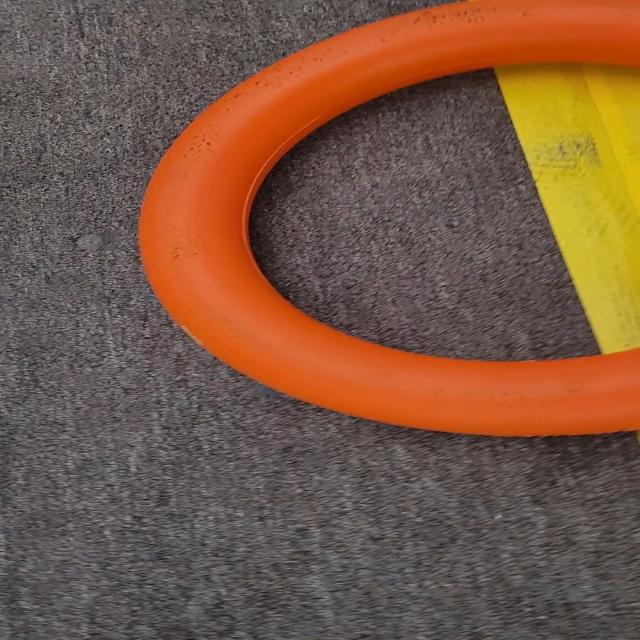note: (118, 0, 640, 448)
